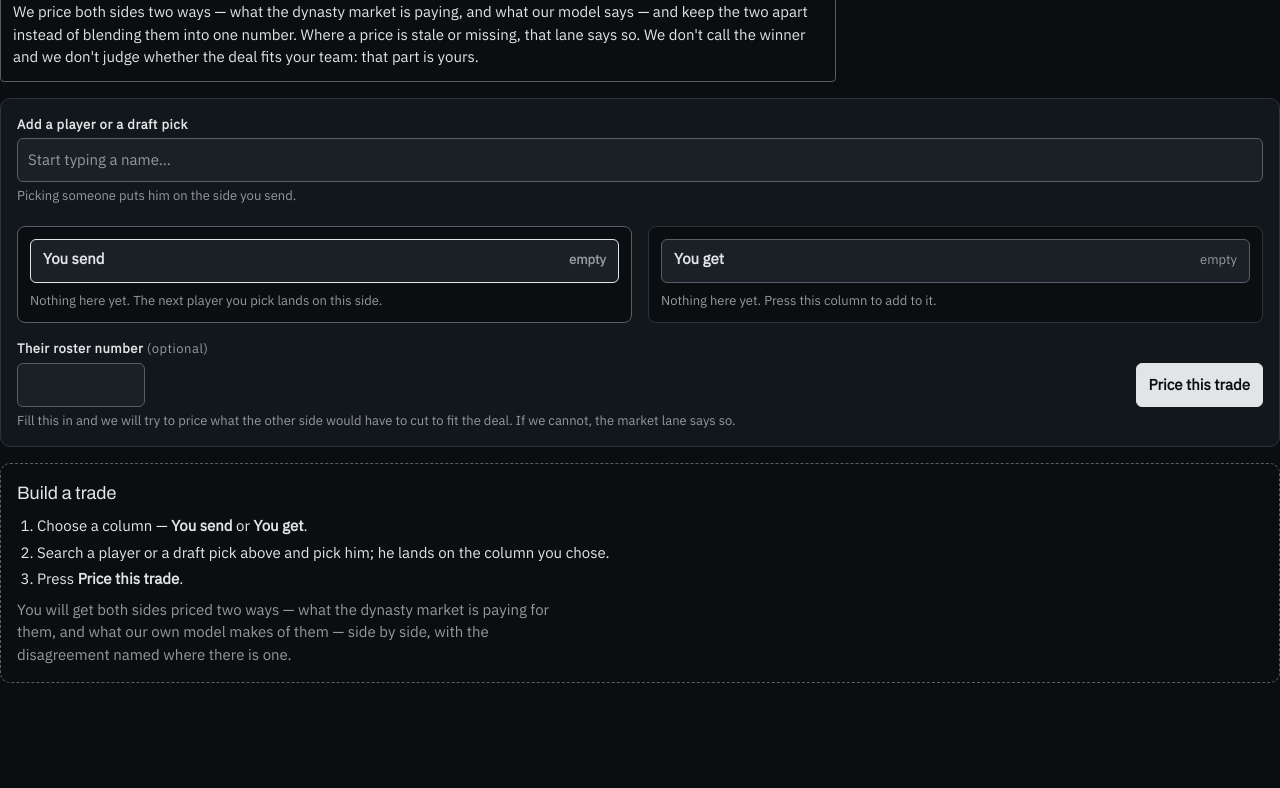
Trade Lab favors non-render guard › keeps backend favors fields out of rendered TradeLab result surfaces
Type "cha" into the search field.
click(640, 160); type("cha")  # box [17, 138, 1263, 182]
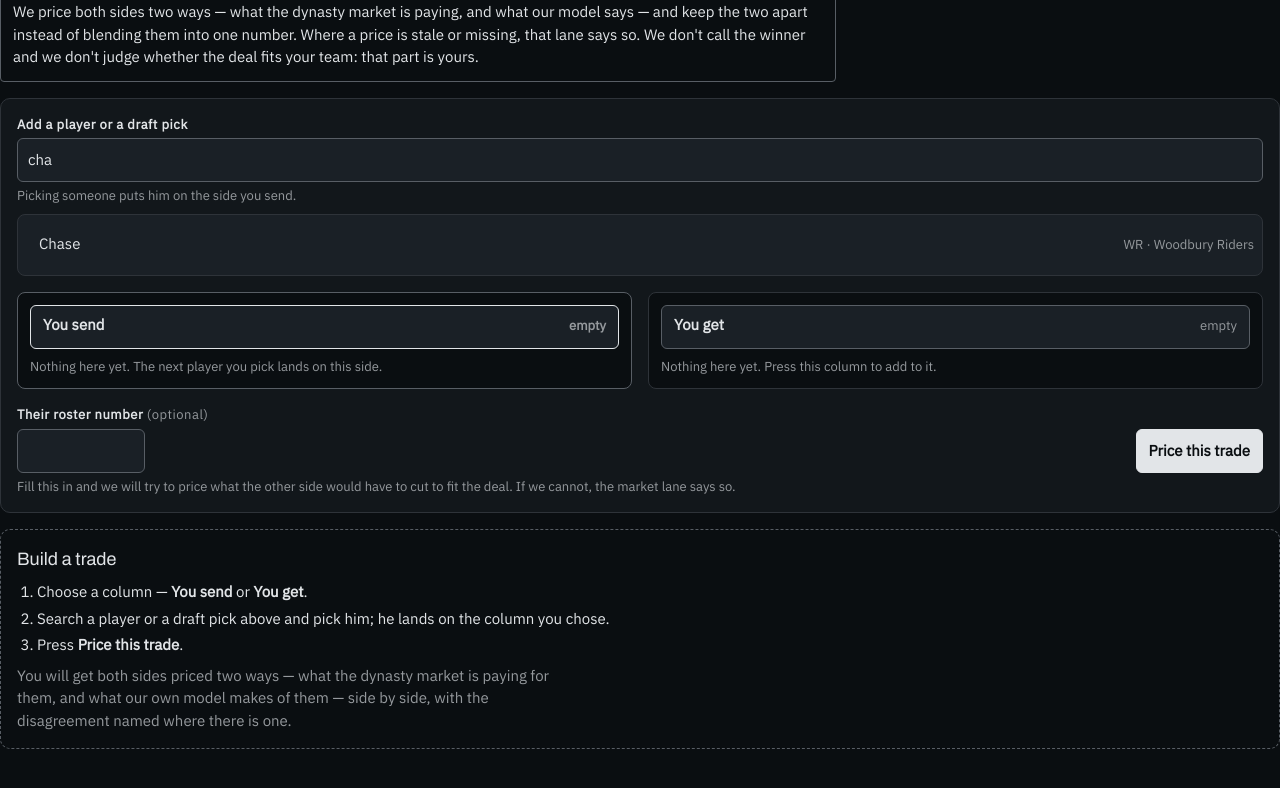
Click the button "Chase".
click(60, 244)  # box [26, 222, 1116, 266]
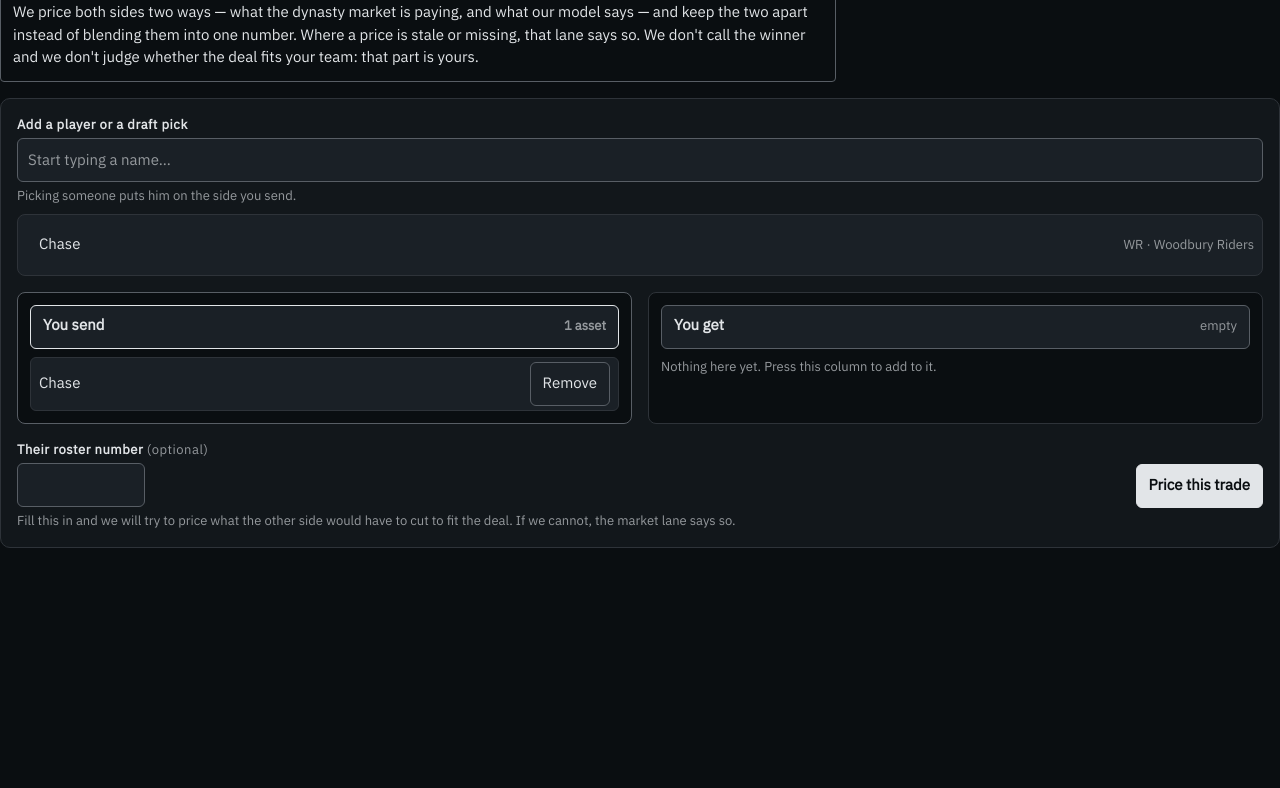
Click the button "Price this trade".
click(1199, 486)  # box [1136, 464, 1263, 508]
(page scrolled)
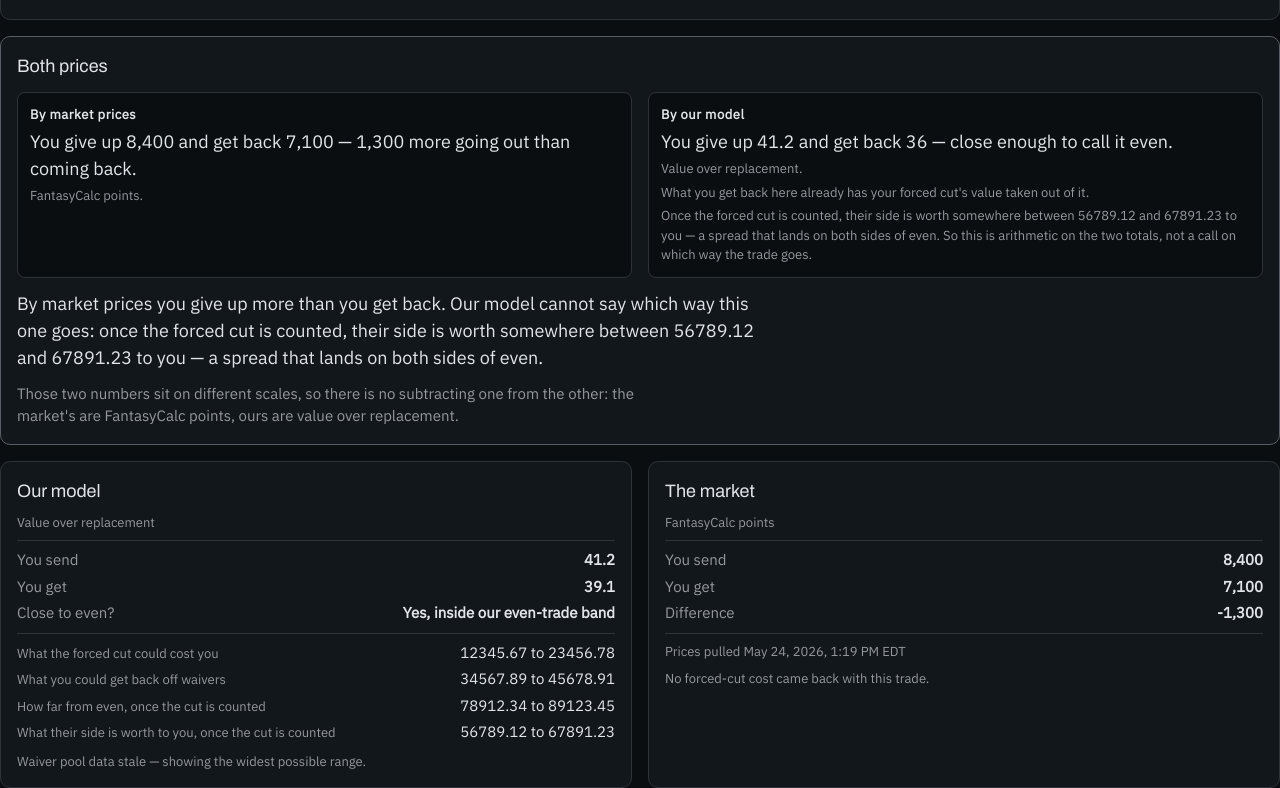
Now the element with test id "model-lane" is shown, box [0, 460, 632, 787]
Now the element with test id "market-lane" is shown, box [648, 460, 1279, 787]
Now the element with test id "trade-verdict" is shown, box [0, 36, 1279, 444]
